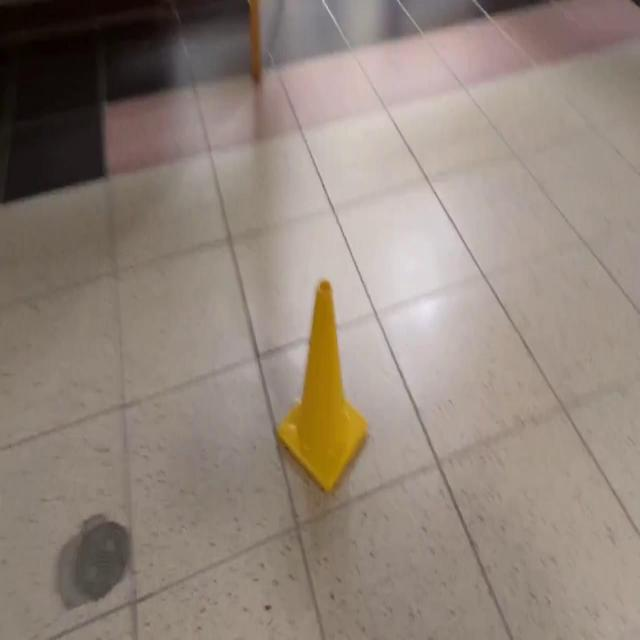frc_cone: (274, 277, 368, 499)
